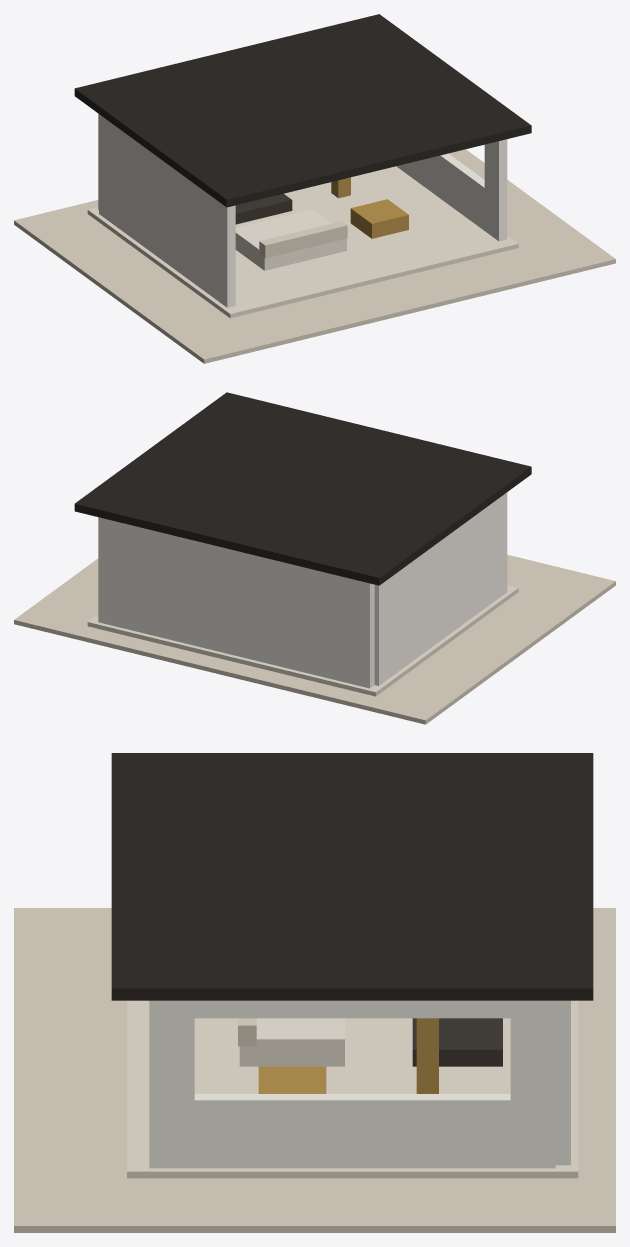
The model's file is property-demo.glb.
3 views of the same model, one above another, from view 1: azimuth 30°, elevation 25°; view 2: azimuth 150°, elevation 25°; view 3: azimuth 270°, elevation 25° (orthographic). The views are drawn at different scales.
Parts seen in each view (by area): view 1: Roof, Terrace, Floor, LeftWall, RightWallLower, Seating, Table, SeatBack, RightPillarFront, Hearth; view 2: Roof, BackWall, Terrace, LeftWall, Floor; view 3: Roof, Terrace, RightWallLower, Floor, RightWallUpper, RightPillarBack, RightPillarFront, Seating, Hearth, BackWall, Table, GoldPillar.
Part boxes in pixels (x1,y1,x2,y2): Roof: [74, 14, 531, 207]; Terrace: [14, 149, 615, 363]; Floor: [87, 166, 518, 318]; LeftWall: [99, 114, 235, 307]; RightWallLower: [396, 153, 507, 241]; Seating: [235, 209, 346, 270]; Table: [350, 199, 408, 238]; SeatBack: [259, 221, 347, 258]; RightPillarFront: [484, 139, 507, 240]; Hearth: [235, 193, 292, 224]; Roof: [74, 392, 531, 585]; BackWall: [98, 517, 374, 688]; Terrace: [14, 554, 615, 724]; LeftWall: [374, 492, 507, 685]; Floor: [87, 585, 518, 696]; Roof: [111, 753, 593, 1000]; Terrace: [14, 908, 615, 1232]; RightWallLower: [149, 1094, 555, 1168]; Floor: [127, 1000, 578, 1178]; RightWallUpper: [149, 1000, 555, 1018]; RightPillarBack: [510, 1001, 555, 1168]; RightPillarFront: [149, 1000, 194, 1168]; Seating: [239, 1018, 344, 1066]; Hearth: [412, 1018, 502, 1066]; BackWall: [555, 1000, 570, 1165]; Table: [258, 1066, 326, 1093]; GoldPillar: [416, 1018, 438, 1093].
Bounding box in the file's own units: 10 × 2.98 × 8.
